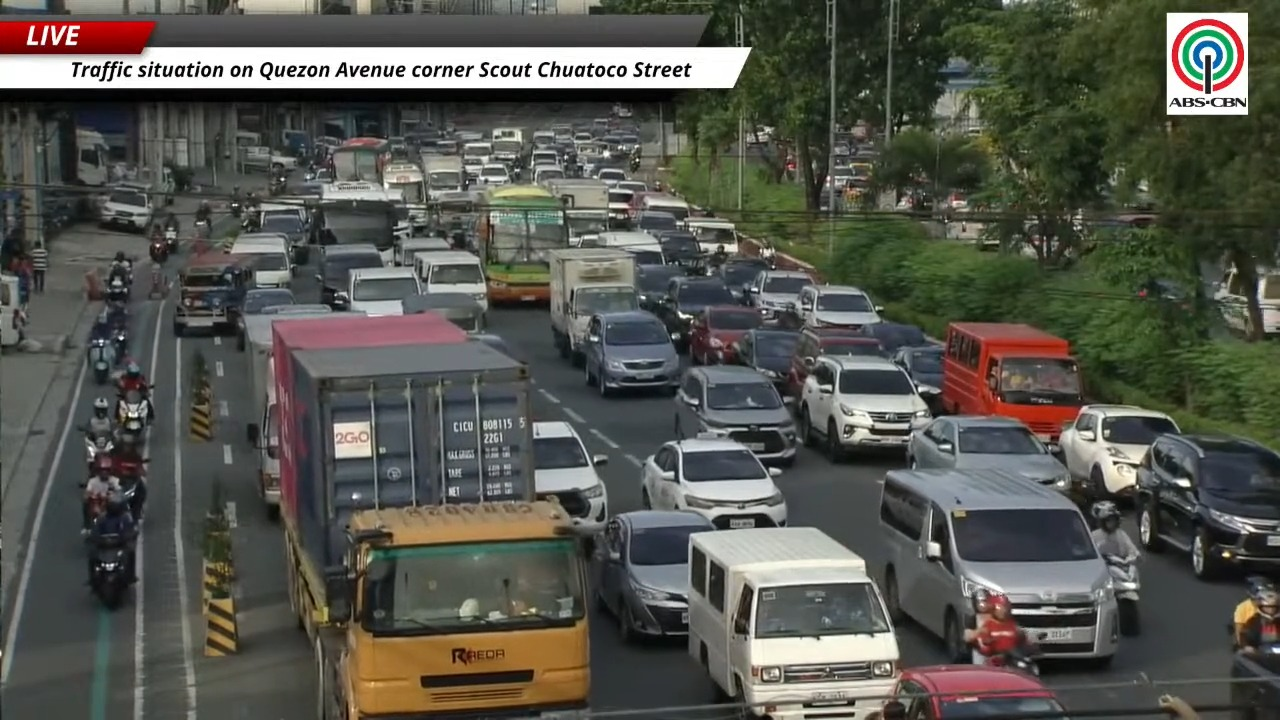bus: (475, 185, 568, 303), (311, 182, 410, 264), (329, 137, 391, 184)
car: (1136, 435, 1279, 579), (589, 510, 714, 641), (797, 356, 930, 461), (640, 437, 787, 529), (907, 415, 1071, 492), (675, 365, 795, 464), (1059, 404, 1179, 499), (893, 665, 1066, 719), (582, 310, 679, 396), (533, 421, 608, 524), (787, 328, 882, 397), (653, 277, 733, 349), (315, 243, 384, 308), (688, 305, 762, 364), (733, 328, 799, 392), (790, 285, 882, 328), (235, 288, 295, 350), (743, 269, 813, 320), (893, 344, 943, 413), (714, 257, 769, 303), (635, 262, 685, 311), (861, 321, 927, 353), (468, 333, 527, 364), (657, 230, 701, 264), (632, 211, 678, 237), (476, 163, 511, 185), (595, 167, 628, 186), (616, 180, 649, 192)
motorcycle: (1103, 555, 1140, 636), (982, 633, 1046, 676), (91, 536, 128, 609), (113, 458, 147, 522), (116, 388, 151, 432), (987, 649, 1040, 676), (88, 337, 116, 385), (86, 433, 114, 473), (82, 495, 106, 534), (117, 413, 144, 446), (106, 275, 129, 302), (112, 327, 128, 364), (148, 237, 168, 263), (163, 227, 178, 253), (268, 176, 287, 195), (194, 217, 209, 238), (229, 200, 242, 217), (629, 154, 640, 173)
truck: (272, 314, 589, 717), (241, 308, 358, 520), (547, 248, 638, 365), (546, 178, 608, 246), (383, 161, 429, 230), (74, 127, 109, 186), (422, 155, 466, 200)
